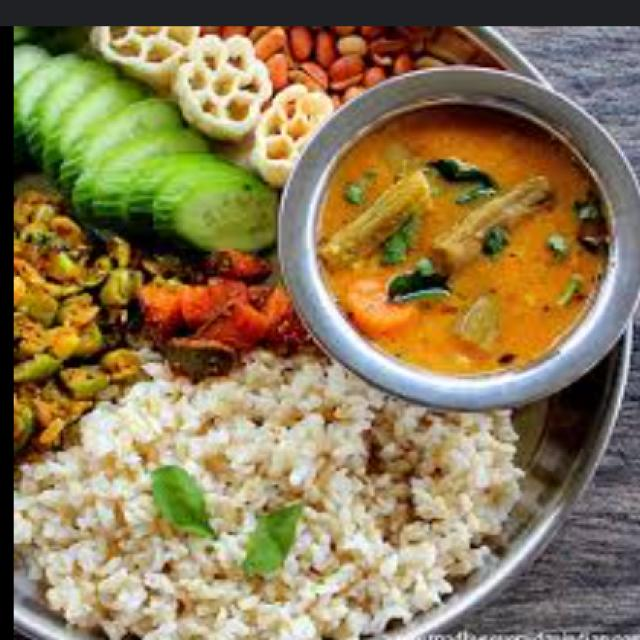sambar: (332, 103, 625, 392)
